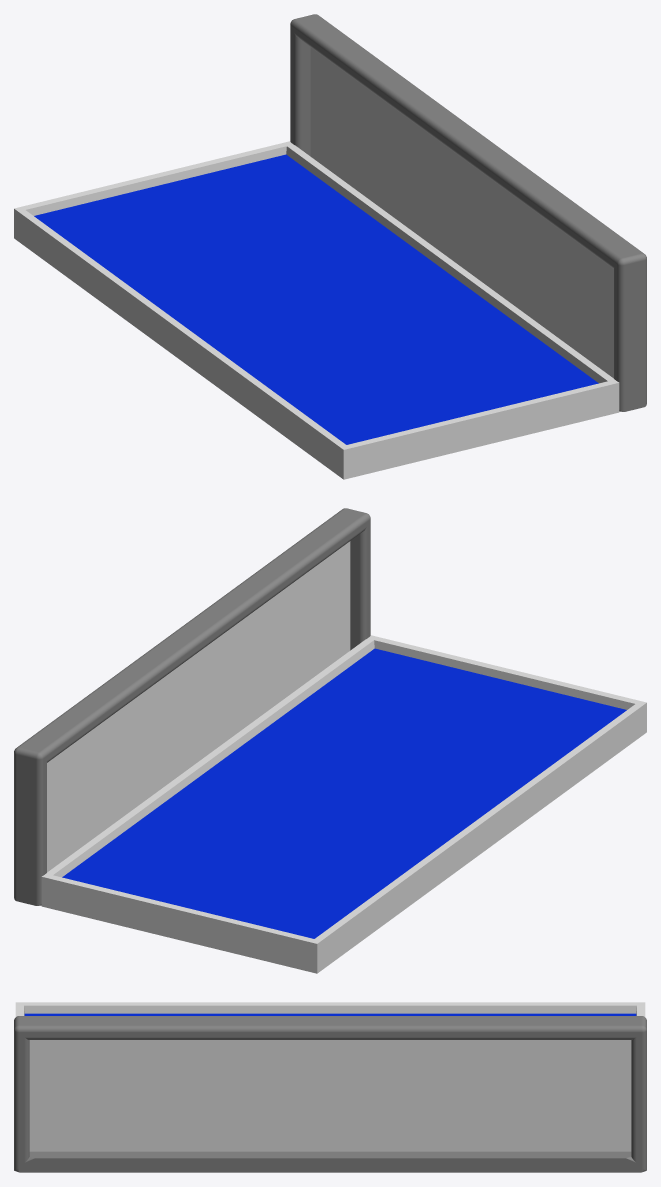
File: PoolAndBarrier.fbx
The picture shows the model from 3 angles, top to bottom: view 1: azimuth 30°, elevation 25°; view 2: azimuth 150°, elevation 25°; view 3: azimuth 270°, elevation 25°; orthographic projection. The views are drawn at different scales.
Visible parts, largest first — view 1: Water, Barrier, Pool; view 2: Water, Barrier, Pool; view 3: Barrier, Pool, Water.
Part boxes in pixels (<box>): Water: <box>34,154,598,444</box>; Barrier: <box>290,14,646,411</box>; Pool: <box>14,141,619,479</box>; Water: <box>62,648,626,938</box>; Barrier: <box>14,508,370,905</box>; Pool: <box>41,635,646,973</box>; Barrier: <box>14,1016,646,1172</box>; Pool: <box>15,1002,645,1016</box>; Water: <box>24,1013,636,1015</box>.
Bounding box in the file's own units: 2.1 × 1 × 3.96.
